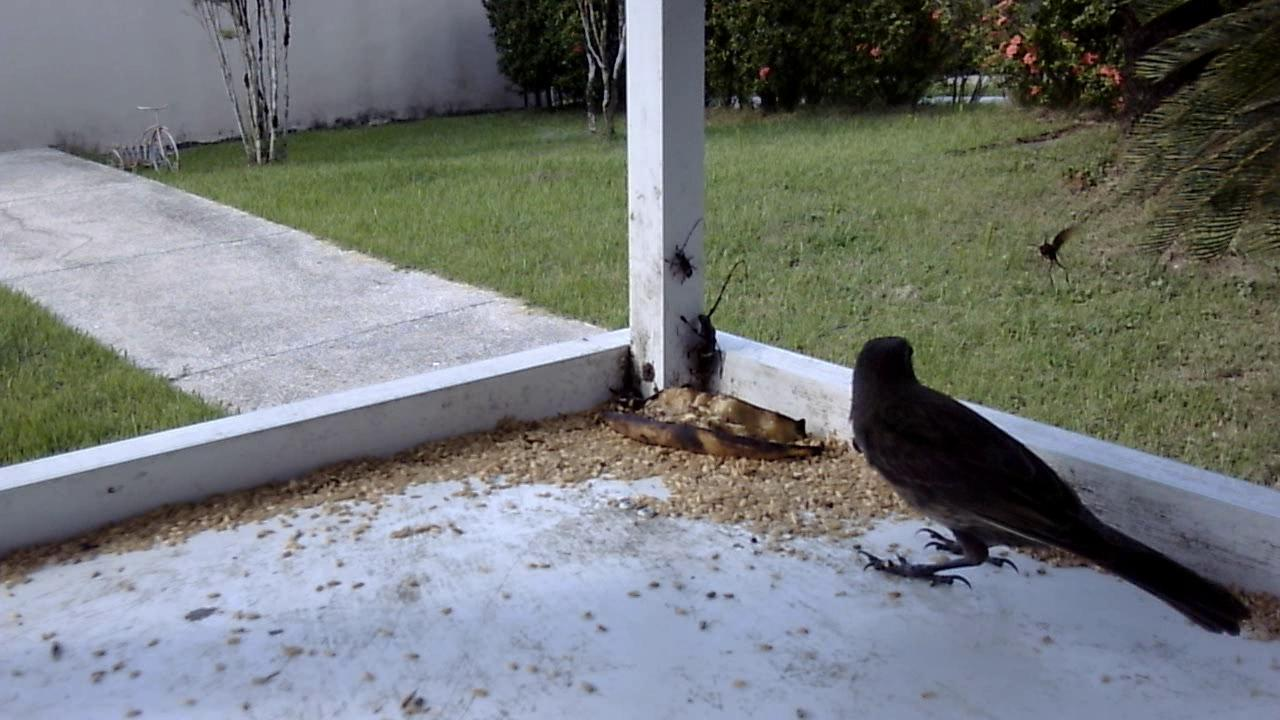chupim: (840, 329, 1248, 642)
